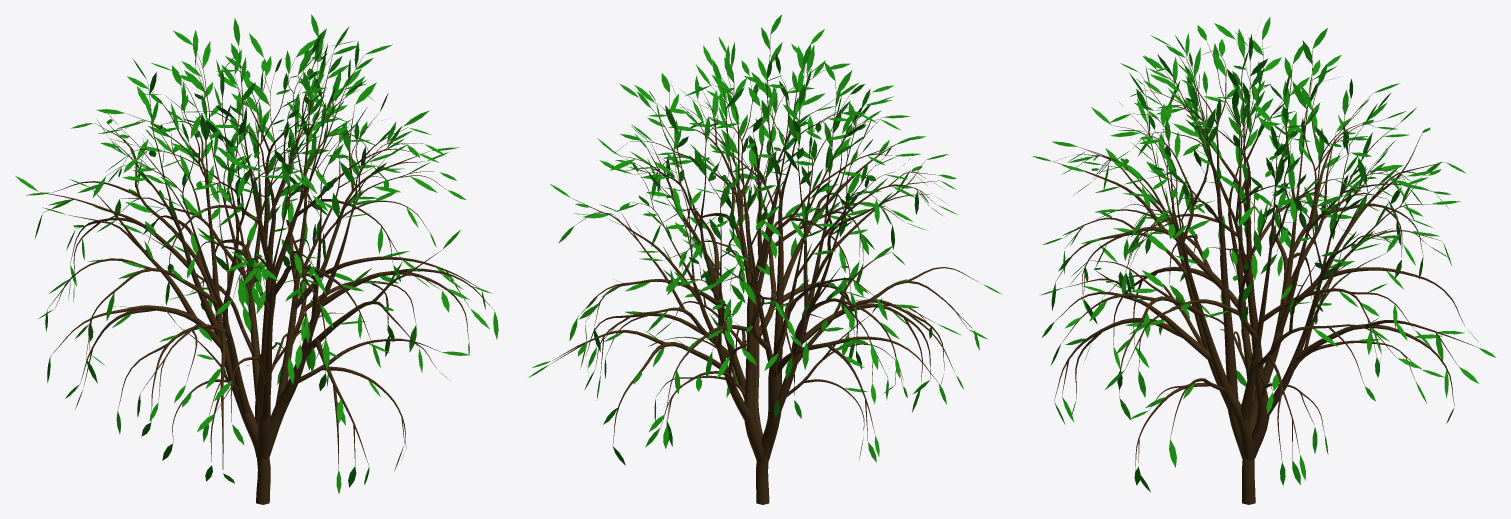
Rendered from tree_level2.gltf.
3 renders of one model, left to right at view 1: azimuth 30°, elevation 25°; view 2: azimuth 150°, elevation 25°; view 3: azimuth 270°, elevation 25°, orthographic. The views are drawn at different scales.
Visible parts, largest first — view 1: tree, leaves; view 2: tree, leaves; view 3: tree, leaves.
Part boxes in pixels (x1,y1,x2,y2): tree: [40, 46, 494, 504]; leaves: [15, 14, 498, 494]; tree: [551, 35, 978, 504]; leaves: [528, 14, 1001, 465]; tree: [1053, 40, 1477, 504]; leaves: [1032, 17, 1495, 492].
Size of the model in its own units: 4.89 by 5.88 by 5.19.
